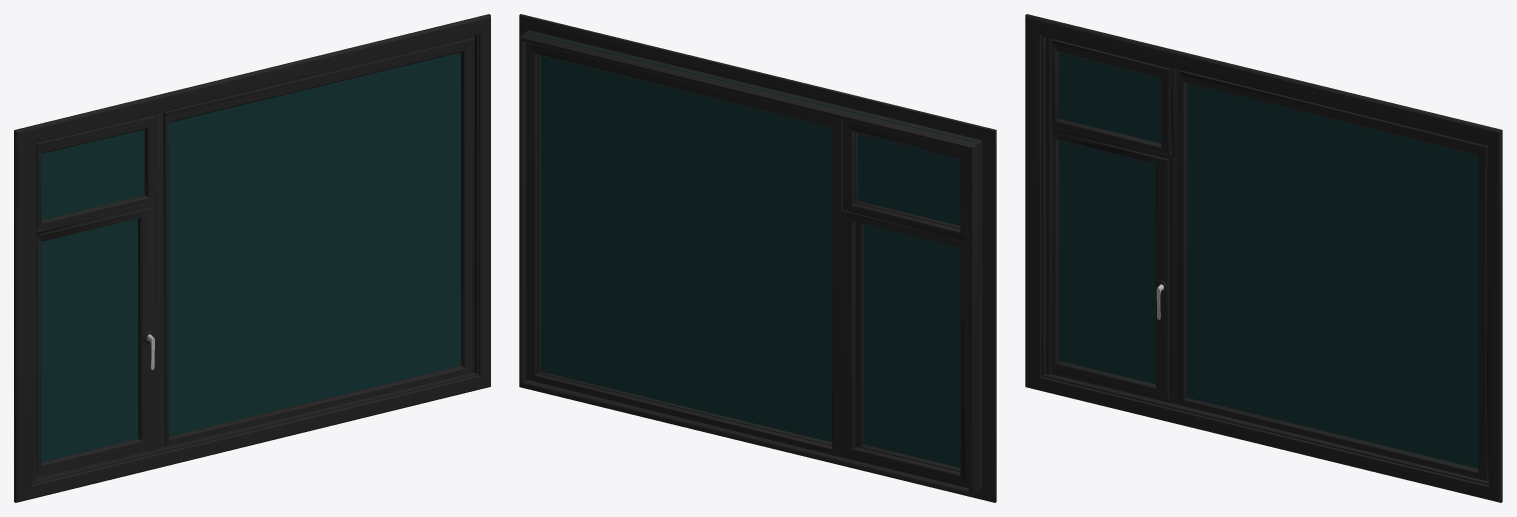
File: zhuwochuanghu.glb
3 renders of one model, left to right at view 1: azimuth 30°, elevation 25°; view 2: azimuth 150°, elevation 25°; view 3: azimuth 330°, elevation 25°, orthographic.
Visible parts, largest first — view 1: root; view 2: root; view 3: root.
Part boxes in pixels (x1=…): root: x1=14, y1=14, x2=490, y2=502; root: x1=519, y1=14, x2=996, y2=502; root: x1=1025, y1=14, x2=1502, y2=502.
Bounding box in the file's own units: 0.4642 × 0.3469 × 0.0233.
